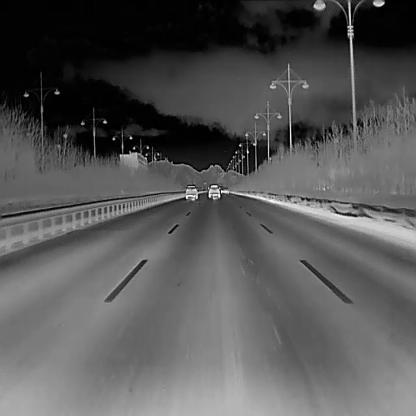car: (206, 182, 219, 198), (185, 183, 197, 198)
